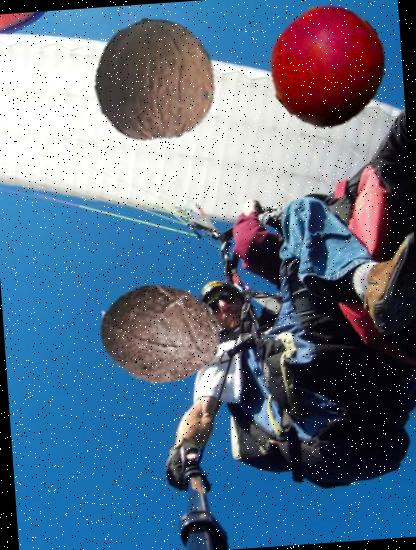Cocos: (94, 268, 226, 400)
Nectarine: (263, 2, 390, 129)
Walnut: (87, 12, 221, 146)
